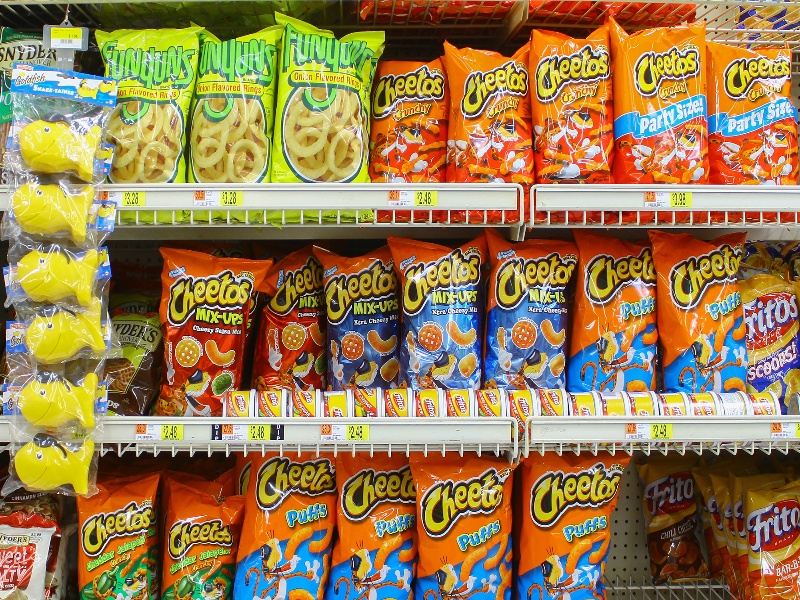chips: (270, 16, 389, 180), (183, 19, 283, 186), (609, 24, 707, 184), (151, 250, 244, 418), (407, 456, 512, 598), (651, 229, 740, 392), (387, 239, 482, 389), (515, 450, 609, 600), (441, 42, 535, 190), (707, 40, 797, 187), (531, 31, 616, 186), (483, 236, 566, 389), (574, 239, 654, 389)
